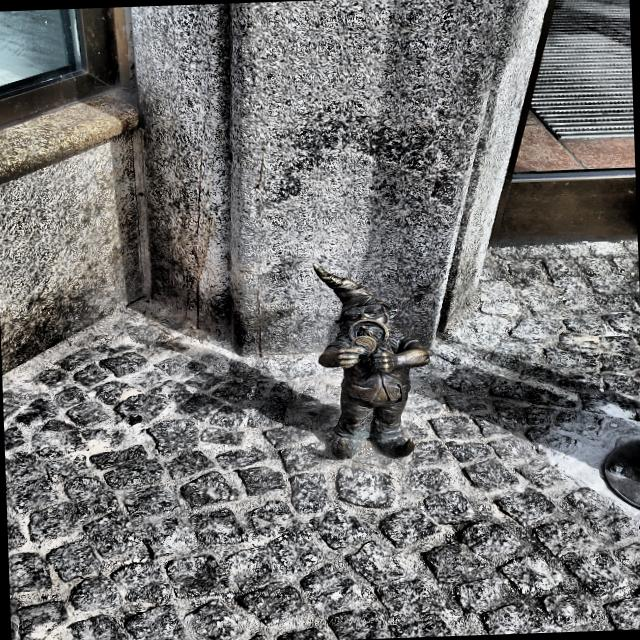Kolekcjoner: (313, 265, 430, 458)
